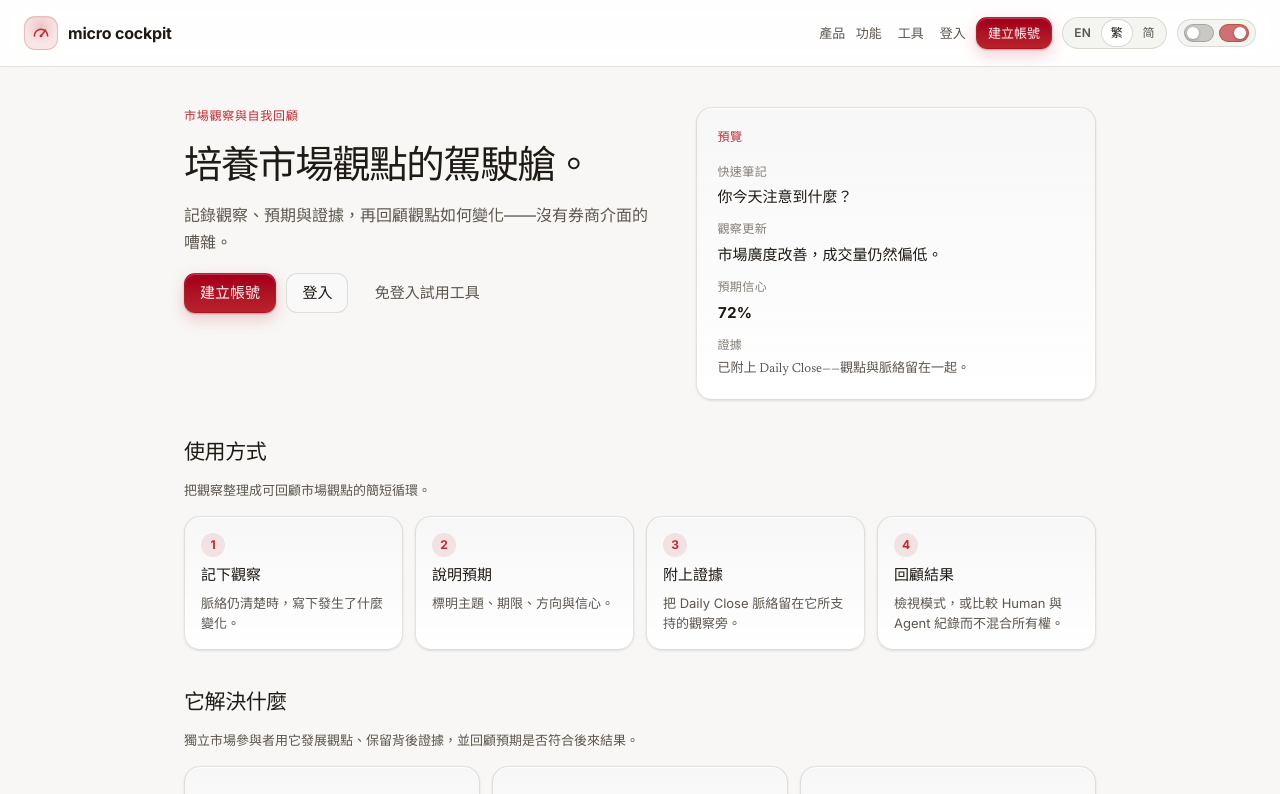
public experience › switches public copy to Simplified Chinese
Click the button "EN" at point(1083, 33), box [1066,20,1100,46]
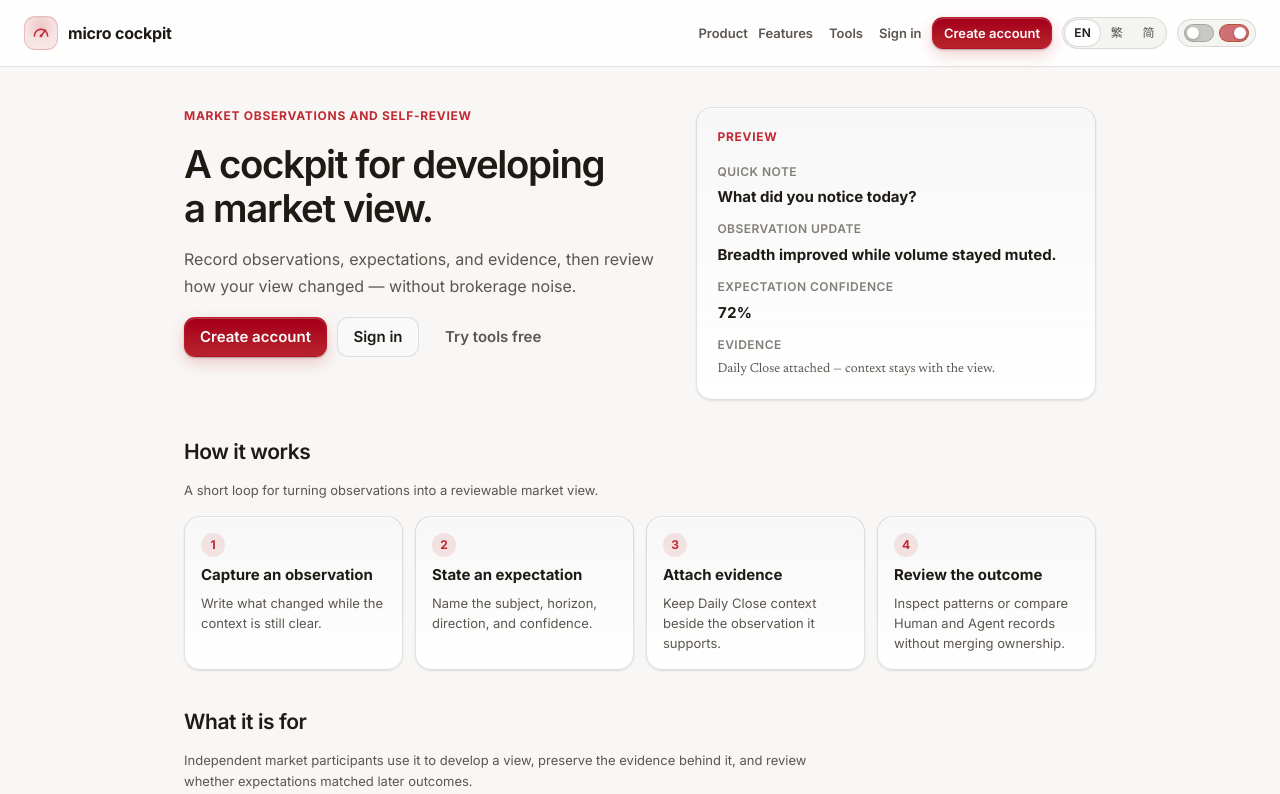
expect the heading "A cockpit for developing a market view." is shown: met, box [184,142,672,230]
Click the button "简" at point(1149, 33), box [1134,20,1164,46]
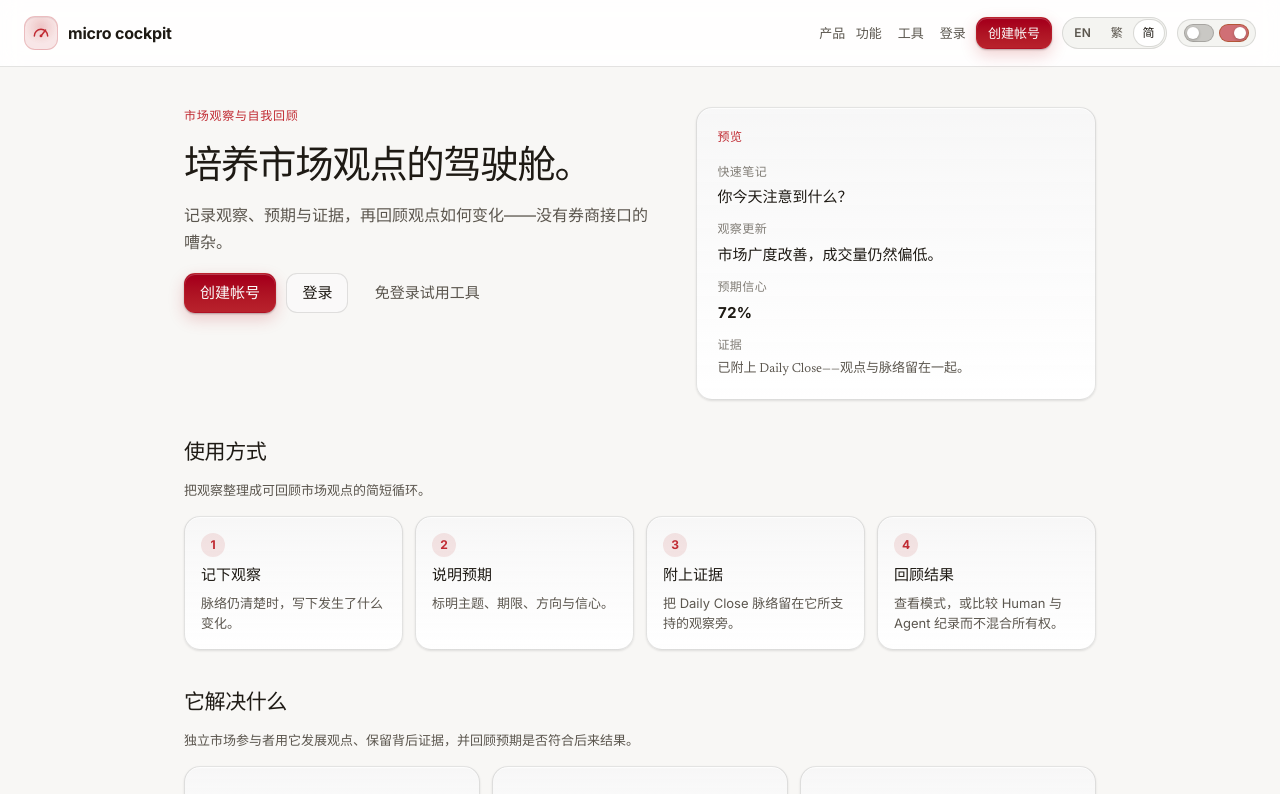
expect the heading "培养市场观点的驾驶舱。" is shown: met, box [184,141,592,187]
expect the heading "使用方式" is shown: met, box [184,439,266,464]
